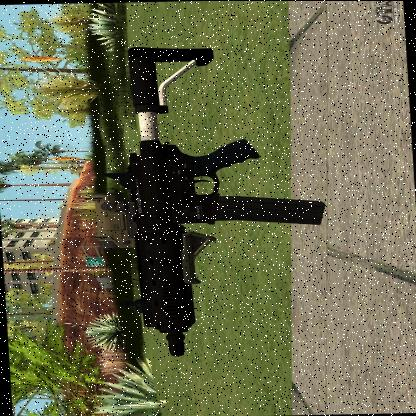rifle: (78, 24, 348, 360)
